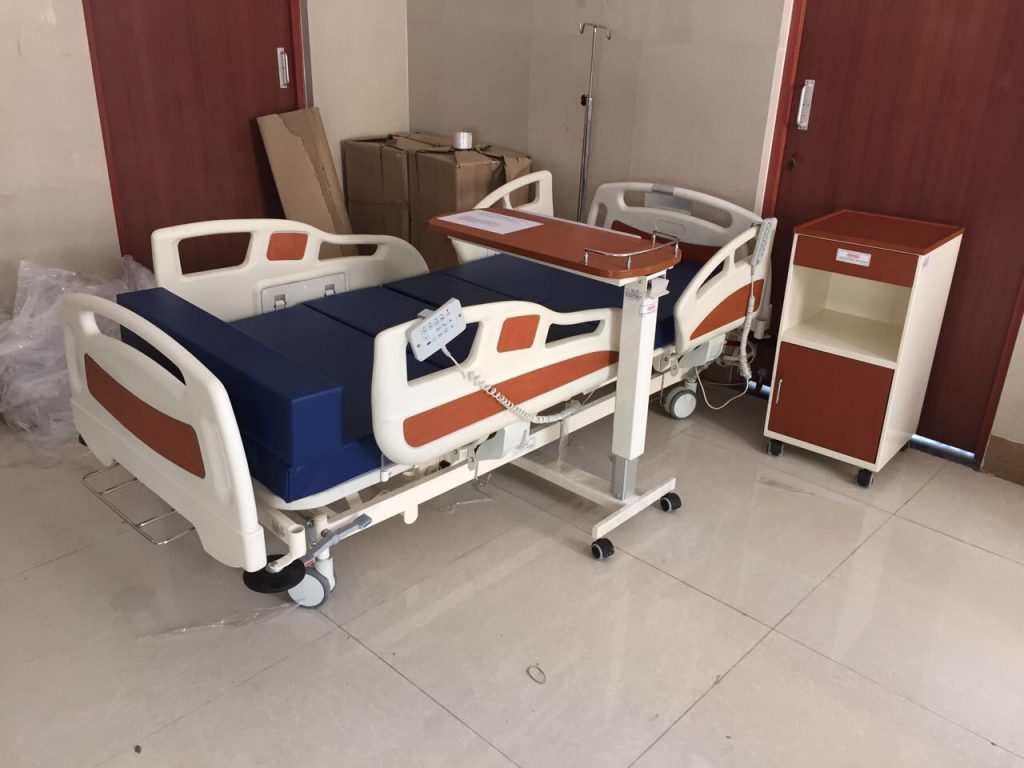trolley_bed: (55, 158, 779, 611)
